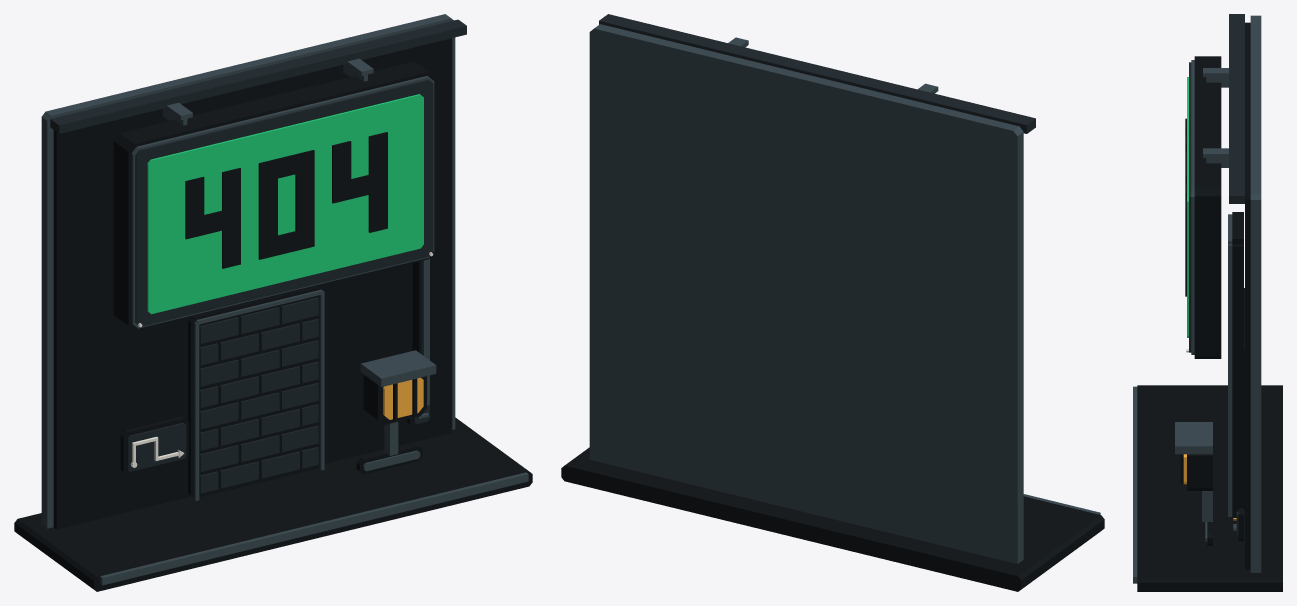
3 renders of one model, left to right at view 1: azimuth 30°, elevation 25°; view 2: azimuth 150°, elevation 25°; view 3: azimuth 270°, elevation 25°, orthographic. The views are drawn at different scales.
Parts seen in each view (by area): view 1: Exit Liquidity sign; view 2: Exit Liquidity sign; view 3: Exit Liquidity sign.
Boxes of the visible parts, x1,y1,x2,y2 form: Exit Liquidity sign: (14,14,532,591); Exit Liquidity sign: (561,14,1104,591); Exit Liquidity sign: (1133,14,1282,591).
Bounding box in the file's own units: 1.08 × 1 × 0.3475.
